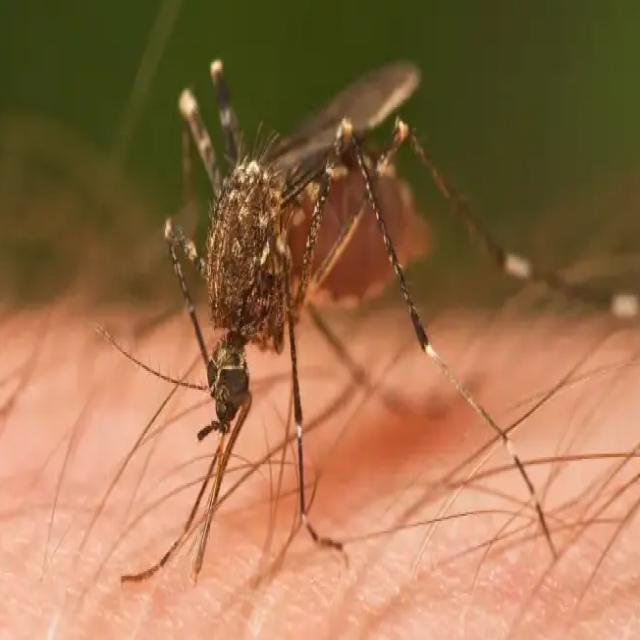Mosquito: (140, 0, 578, 631)
